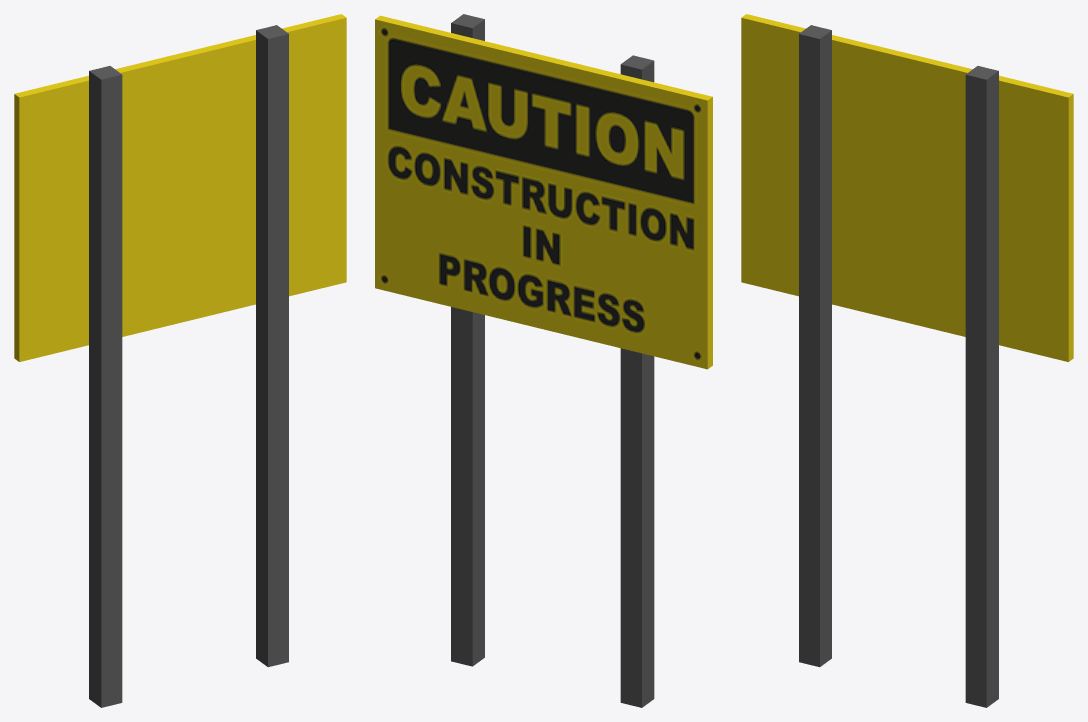
Rendered from SIN0110013.fbx.
The picture shows the model from 3 angles, left to right: view 1: azimuth 30°, elevation 25°; view 2: azimuth 150°, elevation 25°; view 3: azimuth 330°, elevation 25°; orthographic projection.
Visible parts, largest first — view 1: smSIN0110013; view 2: smSIN0110013; view 3: smSIN0110013.
Part boxes in pixels (x1=…): smSIN0110013: x1=14, y1=14, x2=346, y2=707; smSIN0110013: x1=375, y1=14, x2=712, y2=707; smSIN0110013: x1=741, y1=14, x2=1073, y2=707.
Size of the model in its own units: 164 by 301 by 15.
1 material, 1 textured.
